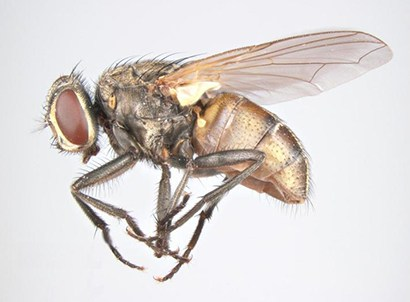house fly: (27, 28, 394, 288)
